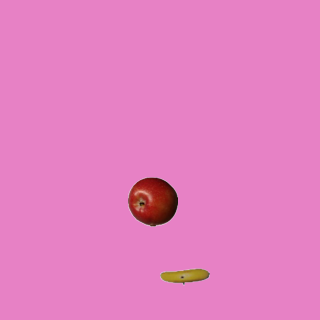Apple Braeburn: (127, 176, 177, 226)
Banana: (159, 251, 209, 301)
